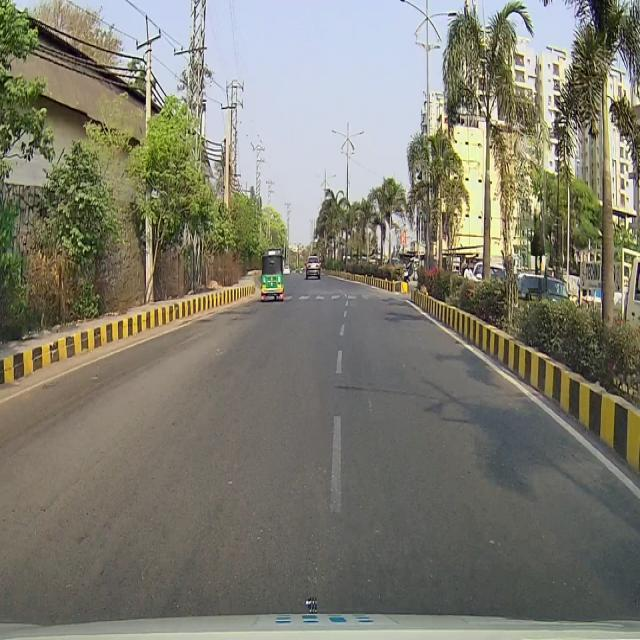auto ahead at: (258, 246, 287, 308)
electric pole ahead at: (131, 9, 173, 310)
plant ahead at: (36, 134, 124, 326)
